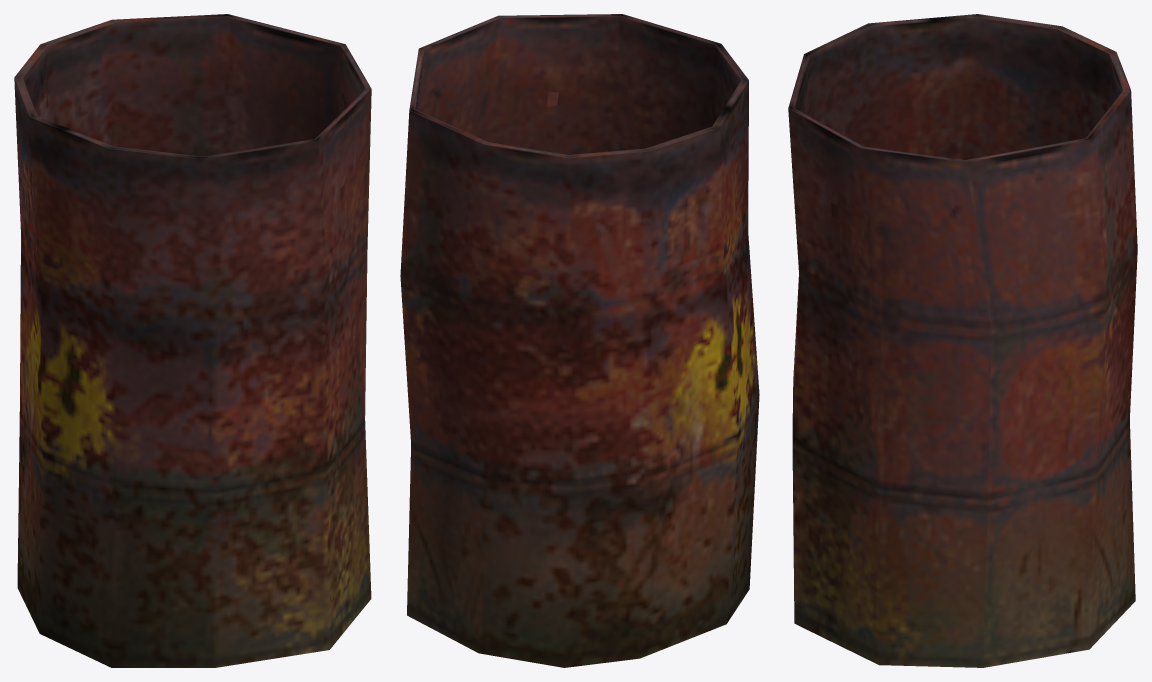
Rendered from Barrel.fbx.
3 views of the same model, side by side, from view 1: azimuth 30°, elevation 25°; view 2: azimuth 150°, elevation 25°; view 3: azimuth 270°, elevation 25° (orthographic).
Visible parts, largest first — view 1: barel; view 2: barel; view 3: barel.
Boxes of the visible parts, x1,y1,x2,y2 form: barel: [14, 14, 371, 667]; barel: [400, 14, 759, 667]; barel: [788, 14, 1137, 667].
Size of the model in its own units: 52.19 by 82.19 by 50.75.
Materials: 1 (1 with a texture image).
